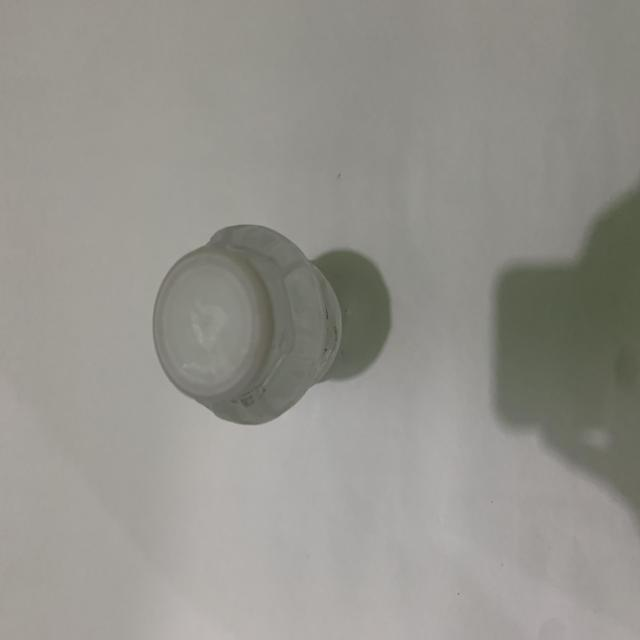bottle: (151, 229, 358, 429)
